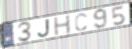3: (17, 21, 33, 43)
5: (111, 4, 127, 26)
9: (92, 7, 108, 29)
C: (74, 12, 88, 32)
H: (53, 13, 72, 37)
J: (37, 18, 51, 38)
